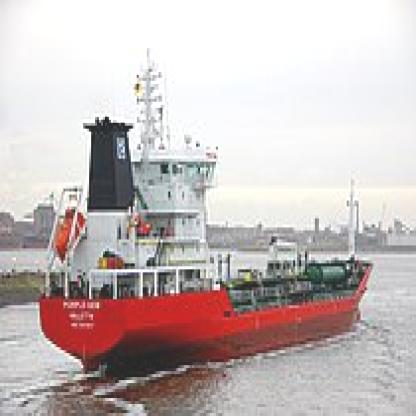Tanker: (44, 84, 372, 350)
